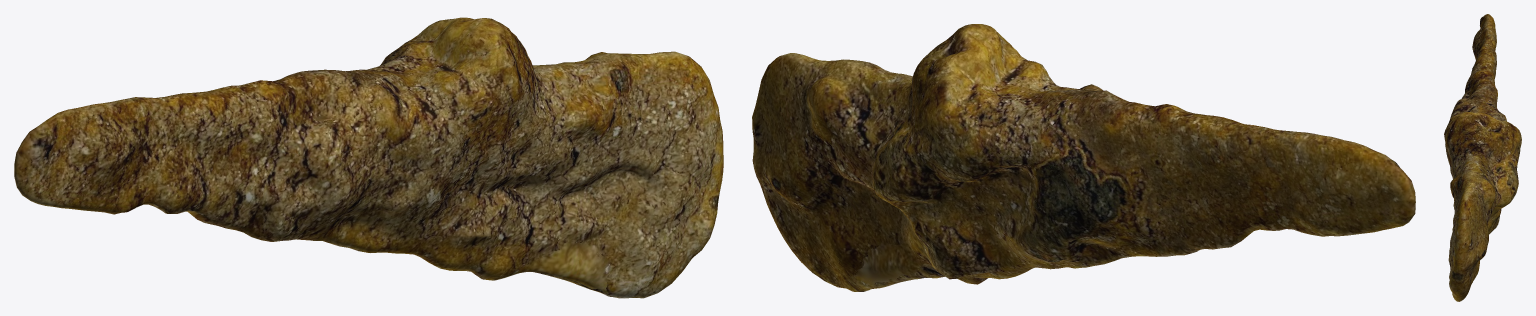
Rendered from EMB_KDG-1-KNIFE-SL3.glb.
The picture shows the model from 3 angles, left to right: view 1: azimuth 30°, elevation 25°; view 2: azimuth 150°, elevation 25°; view 3: azimuth 270°, elevation 25°; orthographic projection. The views are drawn at different scales.
Parts seen in each view (by area): view 1: EMB_KDG-1-KNIFE-SL3; view 2: EMB_KDG-1-KNIFE-SL3; view 3: EMB_KDG-1-KNIFE-SL3.
Boxes of the visible parts, x1,y1,x2,y2 form: EMB_KDG-1-KNIFE-SL3: (14,17,723,298); EMB_KDG-1-KNIFE-SL3: (752,24,1415,291); EMB_KDG-1-KNIFE-SL3: (1444,14,1521,301).
Bounding box in the file's own units: 0.1081 × 0.0458 × 0.0213.
1 material, 1 textured.
